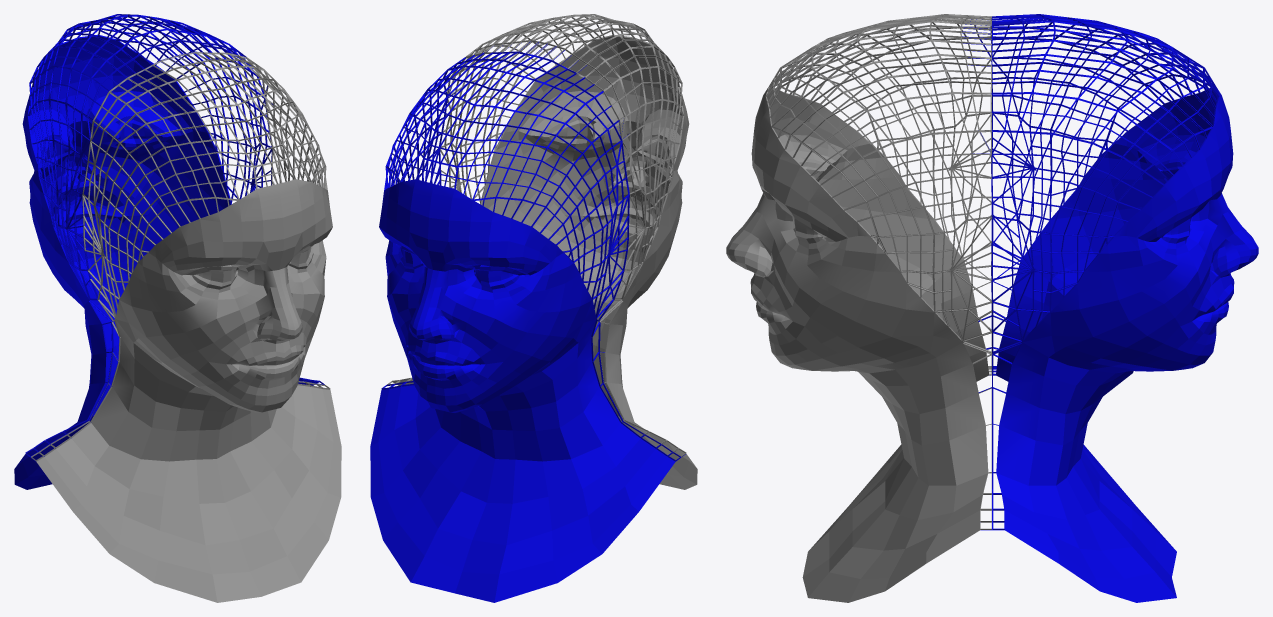
The model's file is Janus_UV_triangulate.fbx.
The picture shows the model from 3 angles, left to right: view 1: azimuth 30°, elevation 25°; view 2: azimuth 150°, elevation 25°; view 3: azimuth 270°, elevation 25°; orthographic projection. The views are drawn at different scales.
Parts seen in each view (by area): view 1: Janus_triangulate_UV1; view 2: Janus_triangulate_UV1; view 3: Janus_triangulate_UV1.
Part boxes in pixels (<box>): Janus_triangulate_UV1: <box>14,14,341,602</box>; Janus_triangulate_UV1: <box>370,14,697,602</box>; Janus_triangulate_UV1: <box>726,14,1258,602</box>.
Size of the model in its own units: 11.45 by 17.97 by 15.81.
